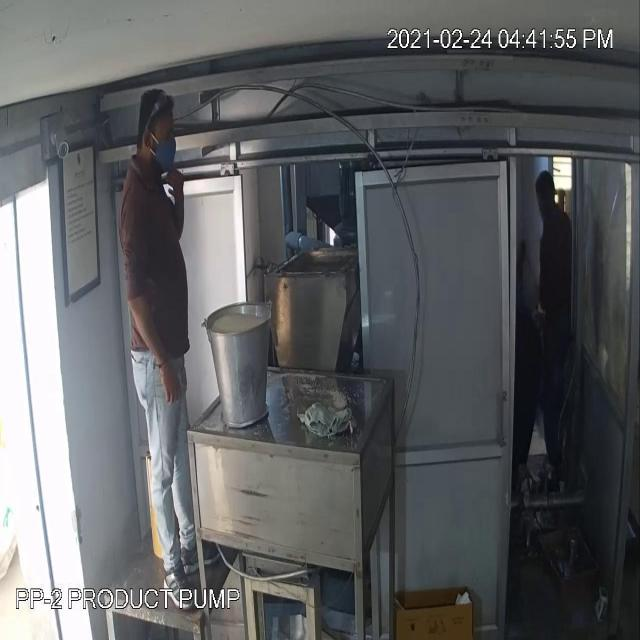no-helmet: (130, 79, 185, 138)
